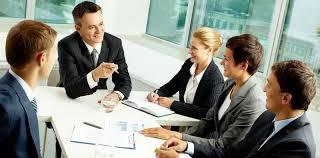Person: (2, 27, 63, 145), (60, 6, 133, 103), (258, 63, 317, 158), (161, 30, 212, 94), (222, 38, 256, 130)
